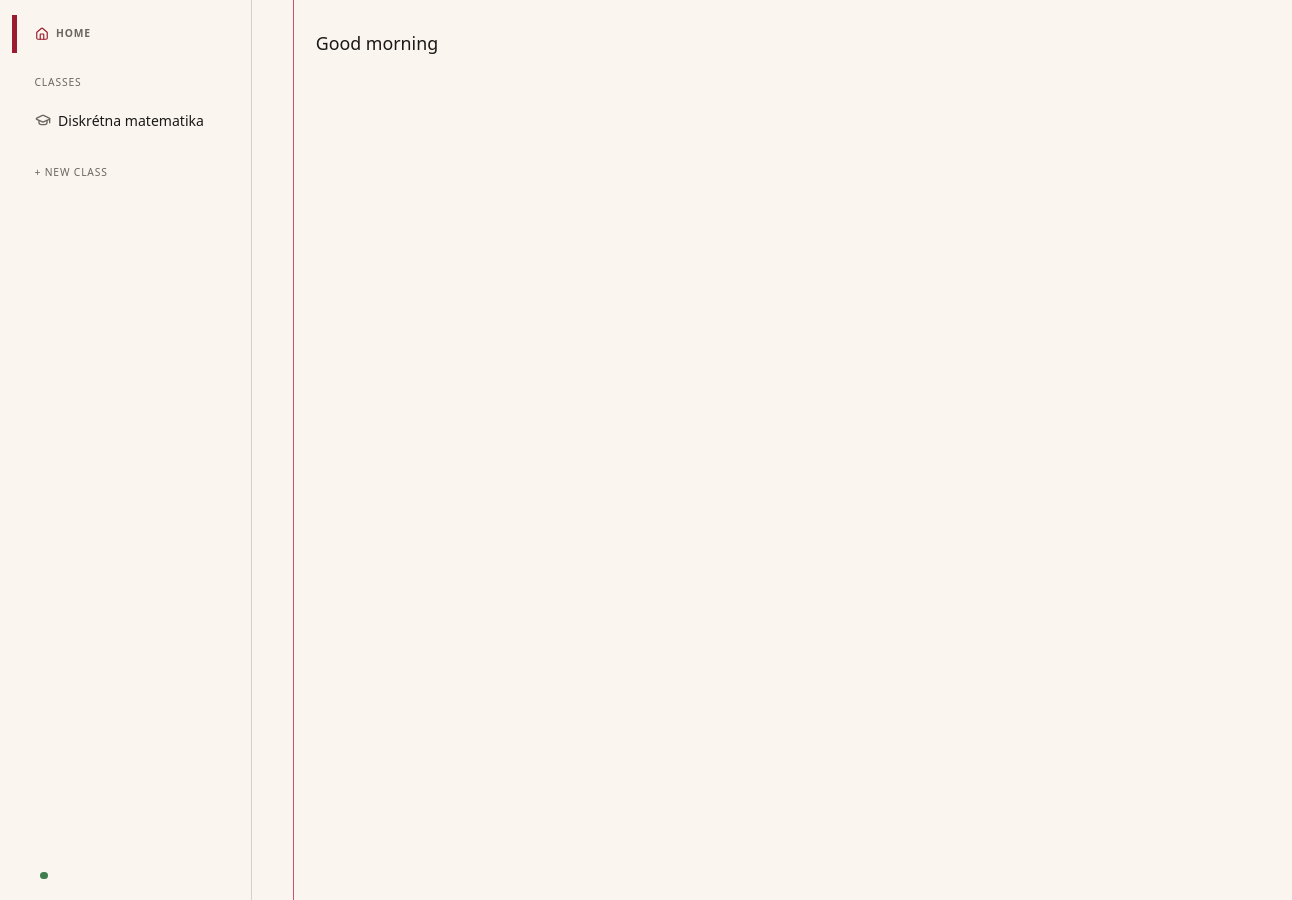
Scenario: App class rail › invites a note in a class that has none
Click the button "Diskrétna matematika" at (132, 120), box [12,98,251,142]
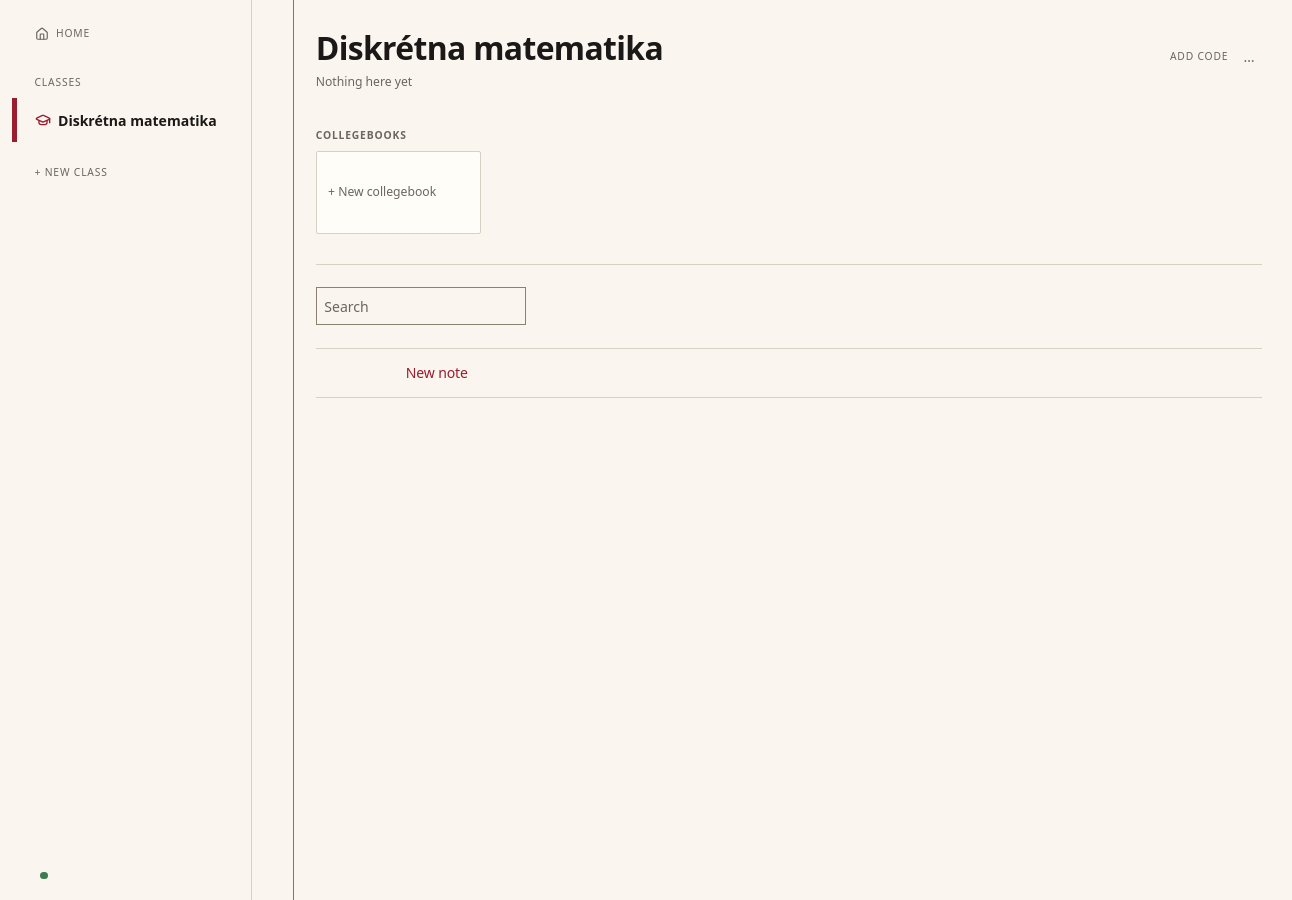
Check: the button "New note" is shown, box [316,349,1262,397]
Check: the text "Nothing here yet" is shown, box [316,73,412,90]
